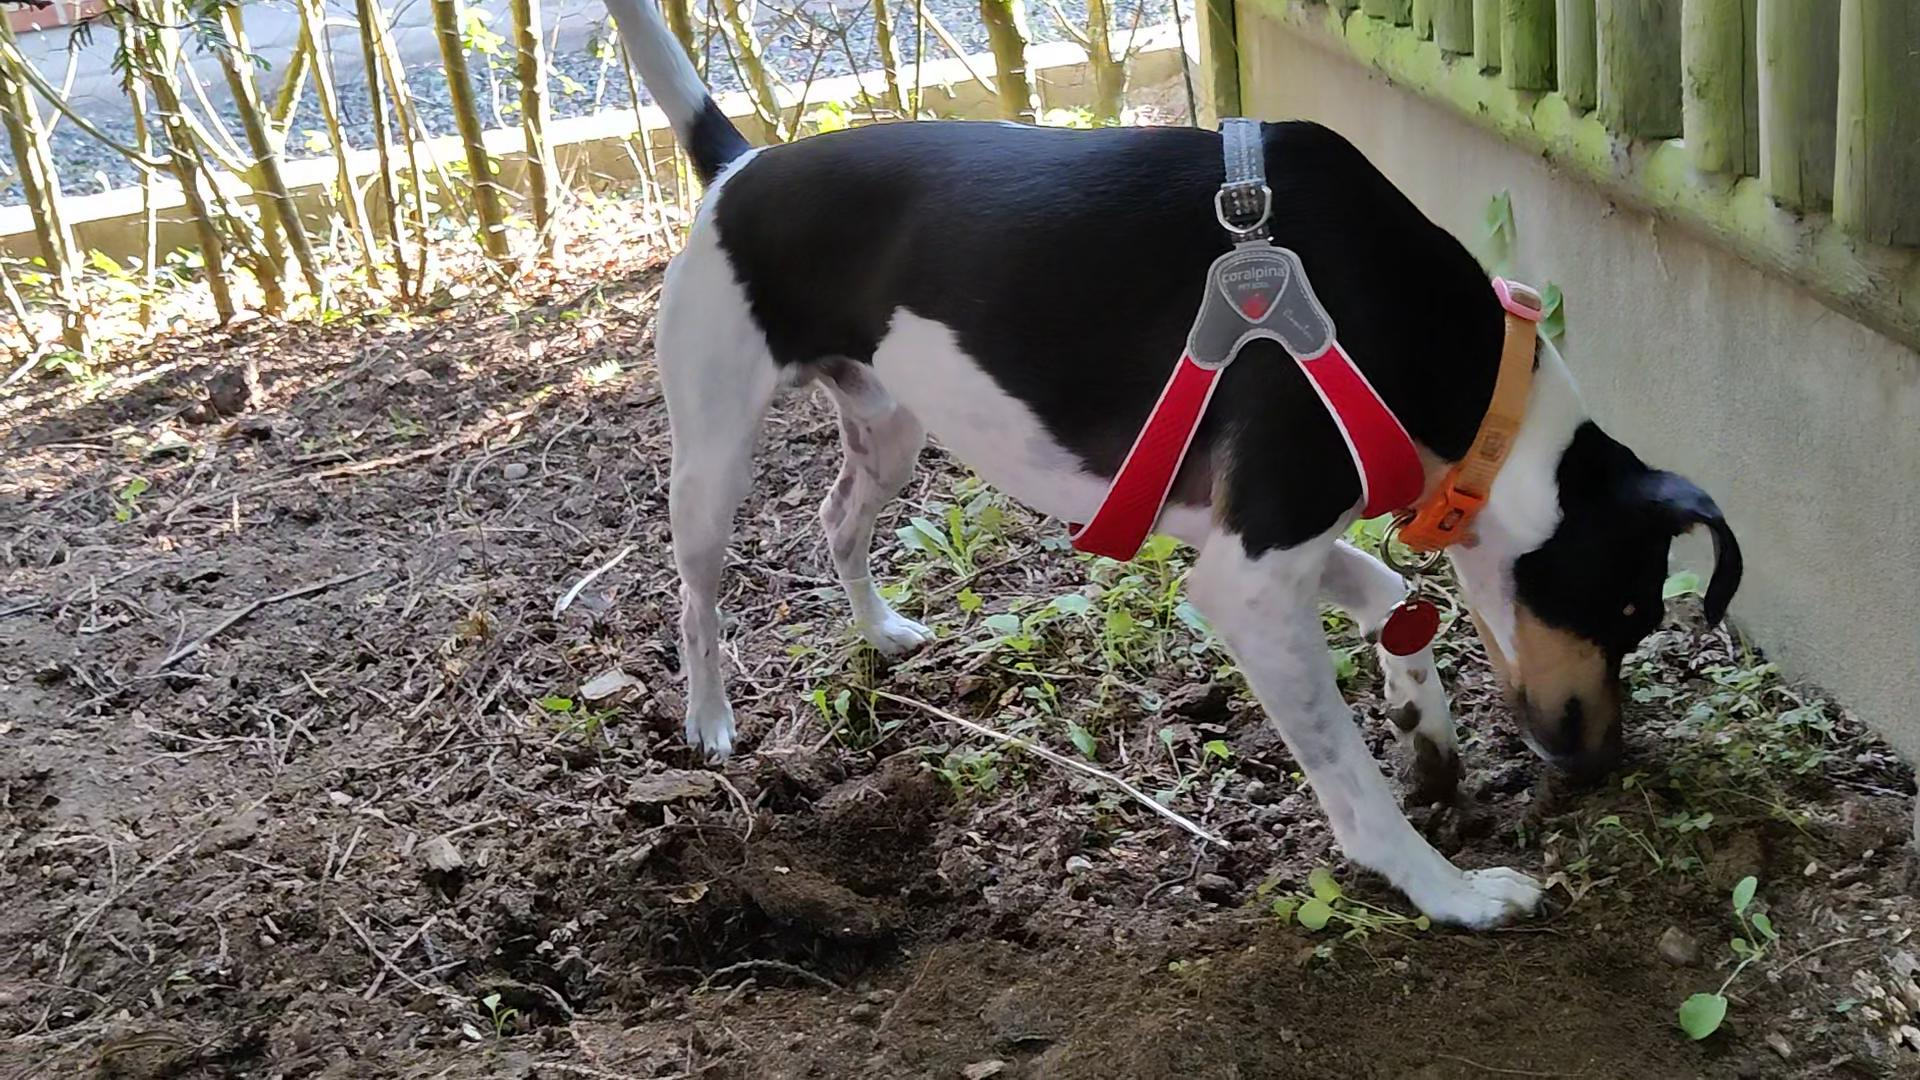Dog: (589, 0, 1768, 945)
